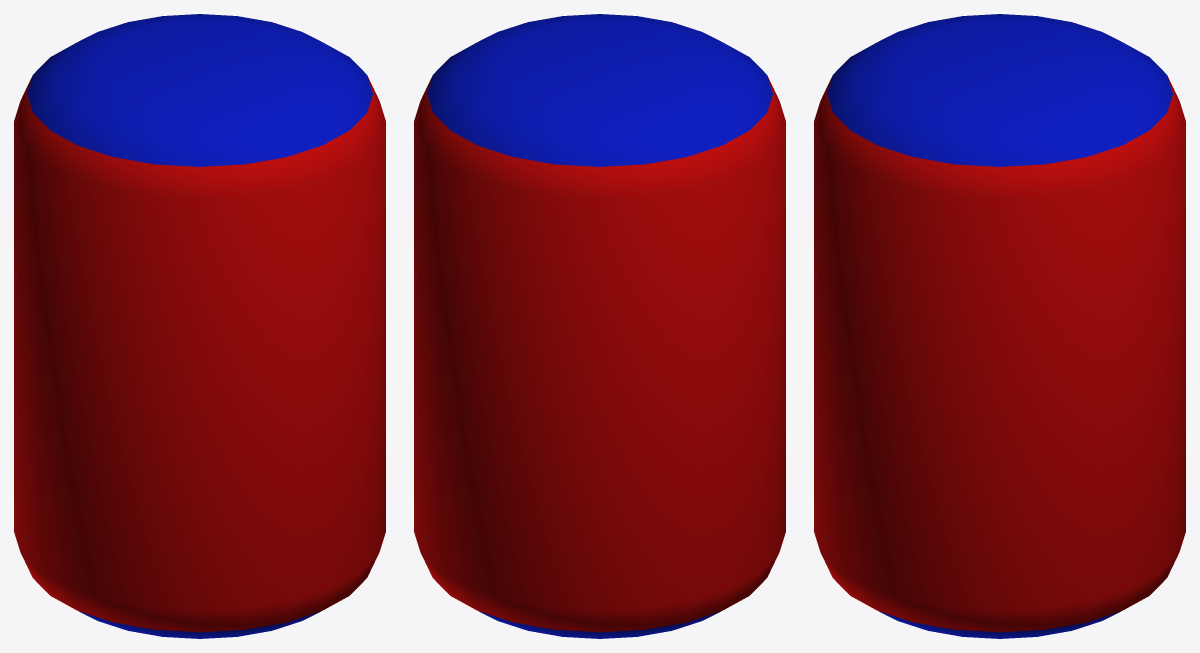
File: Lane-Blocker-Tree-Webview.glb
The picture shows the model from 3 angles, left to right: view 1: azimuth 30°, elevation 25°; view 2: azimuth 150°, elevation 25°; view 3: azimuth 270°, elevation 25°; orthographic projection.
Parts seen in each view (by area): view 1: Lane-Blocker-Tree; view 2: Lane-Blocker-Tree; view 3: Lane-Blocker-Tree.
Boxes of the visible parts, x1=… form: Lane-Blocker-Tree: x1=14, y1=14, x2=385, y2=638; Lane-Blocker-Tree: x1=414, y1=14, x2=785, y2=638; Lane-Blocker-Tree: x1=814, y1=14, x2=1185, y2=638.
Bounding box in the file's own units: 1.08 × 1.7 × 1.08.
